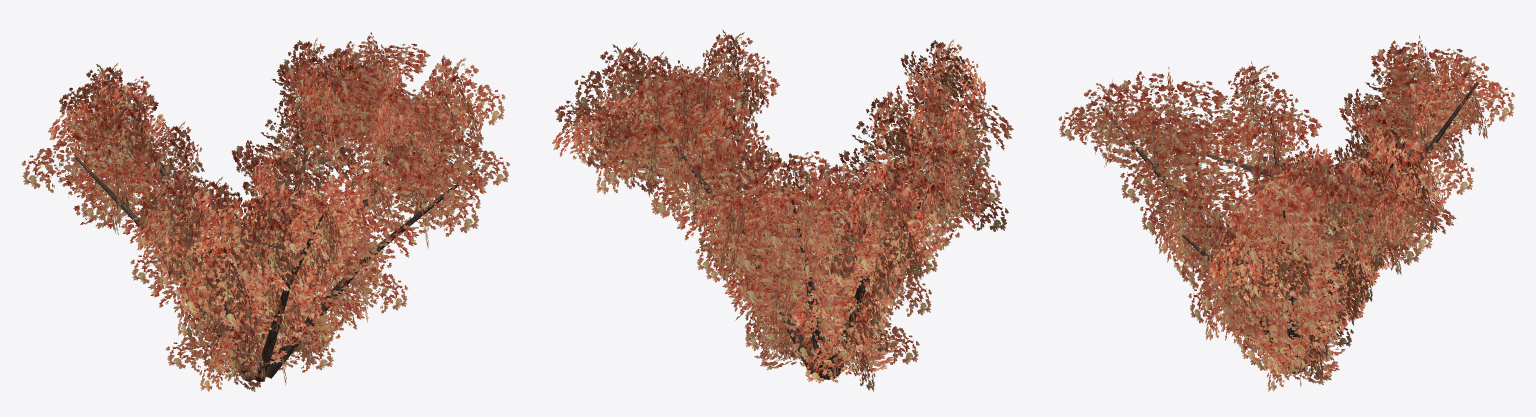
The model's file is bush_3d_06_copper_lod0.glb.
The picture shows the model from 3 angles, left to right: view 1: azimuth 30°, elevation 25°; view 2: azimuth 150°, elevation 25°; view 3: azimuth 270°, elevation 25°; orthographic projection. The views are drawn at different scales.
Visible parts, largest first — view 1: foliage_cards, wood_geometry; view 2: foliage_cards, wood_geometry; view 3: foliage_cards, wood_geometry.
Part boxes in pixels (x1,y1,x2,y2): foliage_cards: (21, 32, 510, 391); wood_geometry: (75, 58, 479, 382); foliage_cards: (552, 30, 1013, 391); wood_geometry: (619, 66, 979, 379); foliage_cards: (1058, 35, 1514, 391); wood_geometry: (1101, 82, 1478, 373).
Size of the model in its own units: 3.15 by 1.95 by 2.94.
2 materials, 2 textured.
